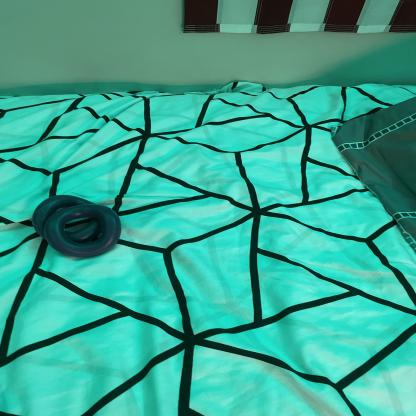ring: (43, 203, 120, 255), (28, 194, 104, 240)
